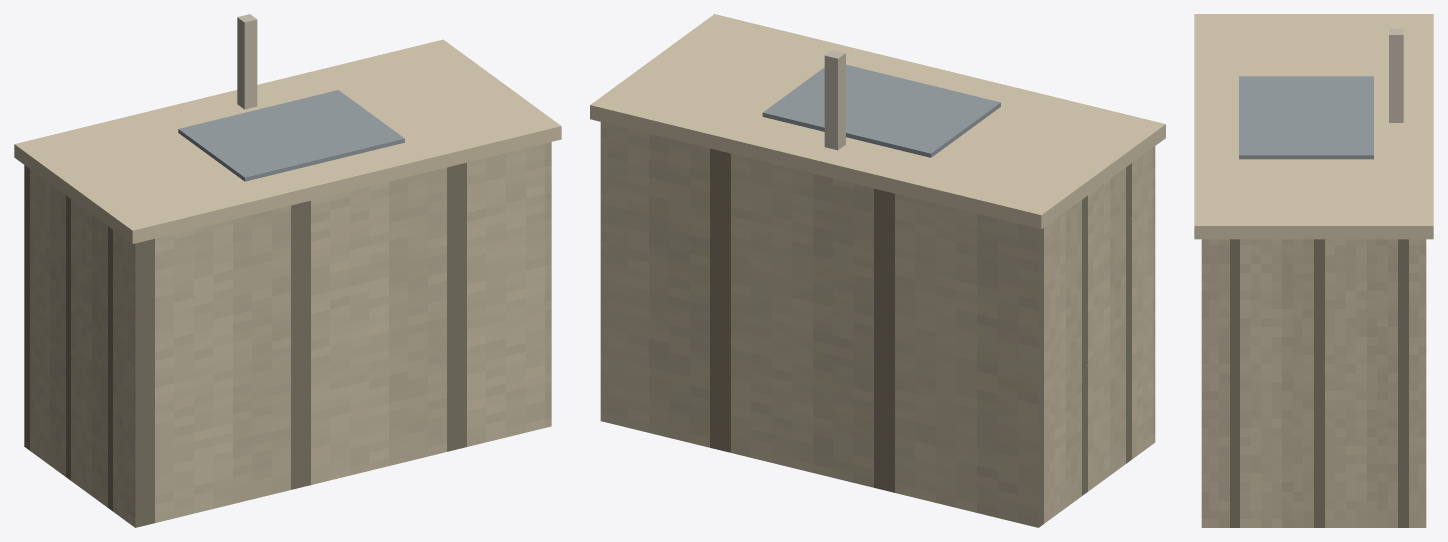
The model's file is sink.glb.
3 renders of one model, left to right at view 1: azimuth 30°, elevation 25°; view 2: azimuth 150°, elevation 25°; view 3: azimuth 270°, elevation 25°, orthographic. The views are drawn at different scales.
Visible parts, largest first — view 1: Box1, Box2, Box3, Box4; view 2: Box1, Box2, Box3, Box4; view 3: Box1, Box2, Box3, Box4.
Boxes of the visible parts, x1=… form: Box1: x1=24, y1=142, x2=551, y2=527; Box2: x1=14, y1=39, x2=561, y2=243; Box3: x1=178, y1=90, x2=404, y2=181; Box4: x1=237, y1=14, x2=257, y2=109; Box1: x1=600, y1=122, x2=1155, y2=527; Box2: x1=590, y1=14, x2=1165, y2=229; Box3: x1=762, y1=64, x2=1000, y2=157; Box4: x1=824, y1=50, x2=845, y2=150; Box1: x1=1201, y1=239, x2=1426, y2=527; Box2: x1=1194, y1=14, x2=1433, y2=239; Box3: x1=1239, y1=76, x2=1373, y2=159; Box4: x1=1389, y1=28, x2=1403, y2=122.
Size of the model in its own units: 1.34 by 1.16 by 0.64.
Materials: 4 (1 with a texture image).
